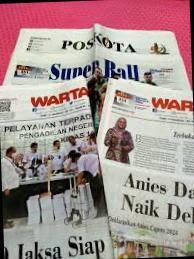Kertas: (0, 70, 122, 259), (81, 61, 194, 259)
